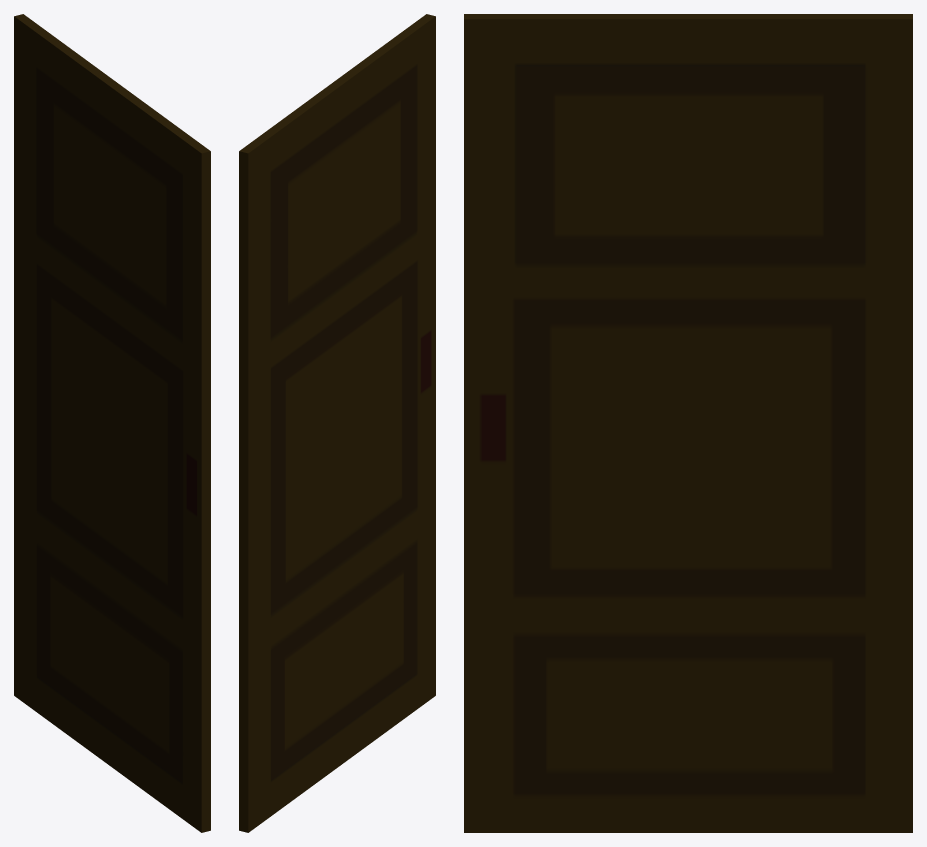
The model's file is puertaSala.obj.
3 renders of one model, left to right at view 1: azimuth 30°, elevation 25°; view 2: azimuth 150°, elevation 25°; view 3: azimuth 270°, elevation 25°, orthographic. The views are drawn at different scales.
Visible parts, largest first — view 1: pasted__pCube2 group; view 2: pasted__pCube2 group; view 3: pasted__pCube2 group.
Part boxes in pixels (left/top/right/bottom): pasted__pCube2 group: left=14, top=14, right=210, bottom=832; pasted__pCube2 group: left=239, top=14, right=435, bottom=832; pasted__pCube2 group: left=464, top=14, right=912, bottom=832.
Size of the model in its own units: 0.05 by 3.5 by 1.75.
1 material, 1 textured.
